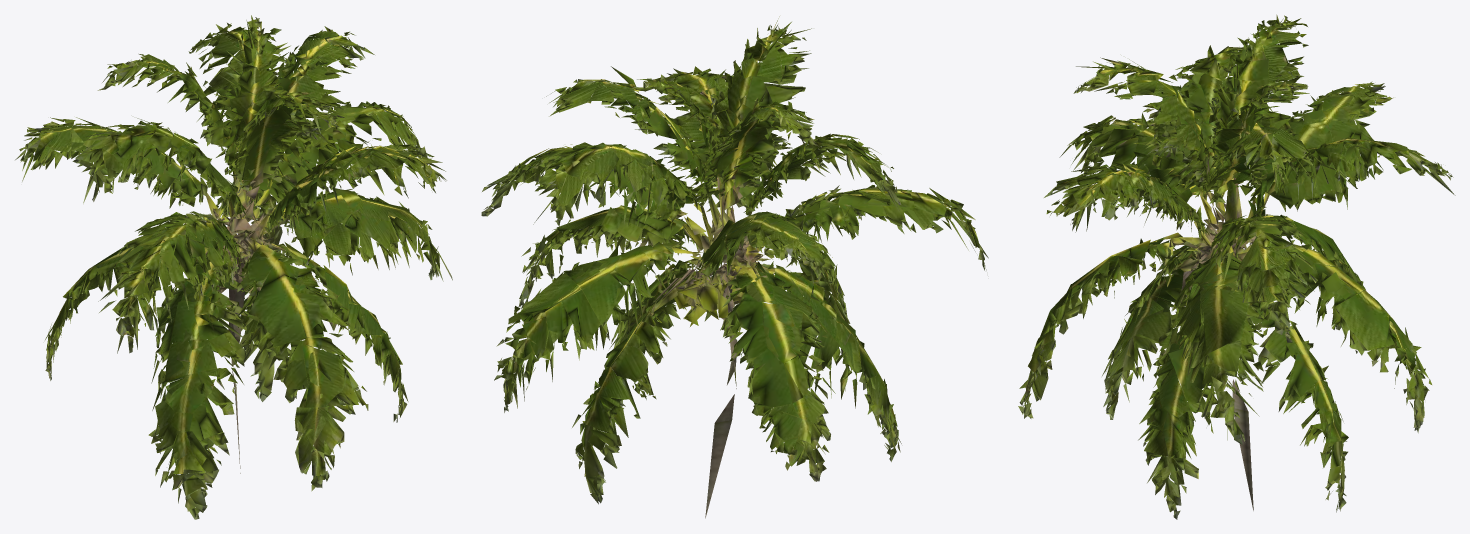
File: palm-crown.glb
3 views of the same model, side by side, from view 1: azimuth 30°, elevation 25°; view 2: azimuth 150°, elevation 25°; view 3: azimuth 270°, elevation 25° (orthographic). The views are drawn at different scales.
Visible parts, largest first — view 1: Mesh_0; view 2: Mesh_0; view 3: Mesh_0.
Part boxes in pixels (bbox=[...]): Mesh_0: bbox=[15, 15, 452, 519]; Mesh_0: bbox=[481, 16, 988, 518]; Mesh_0: bbox=[1018, 14, 1455, 519].
Size of the model in its own units: 1.16 by 1.2 by 1.05.
1 material, 1 textured.
